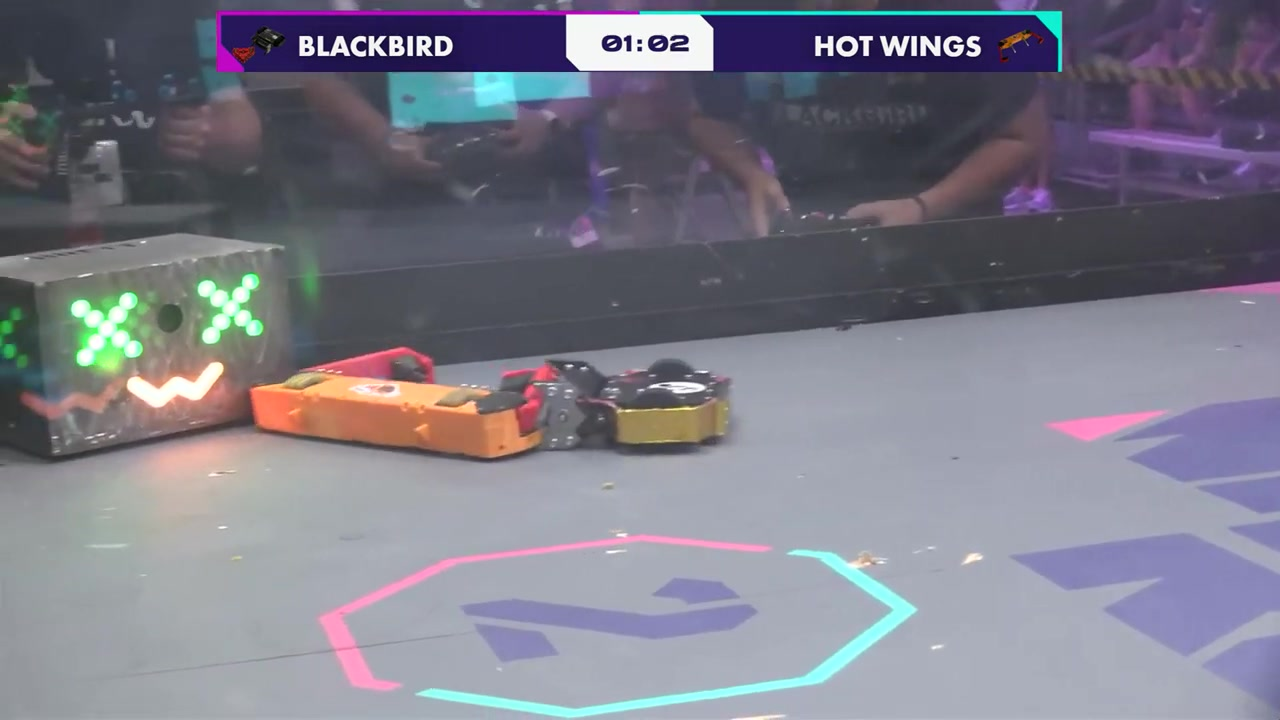combatbot: (251, 351, 602, 459), (537, 360, 737, 450)
housebot: (1, 229, 295, 463)
